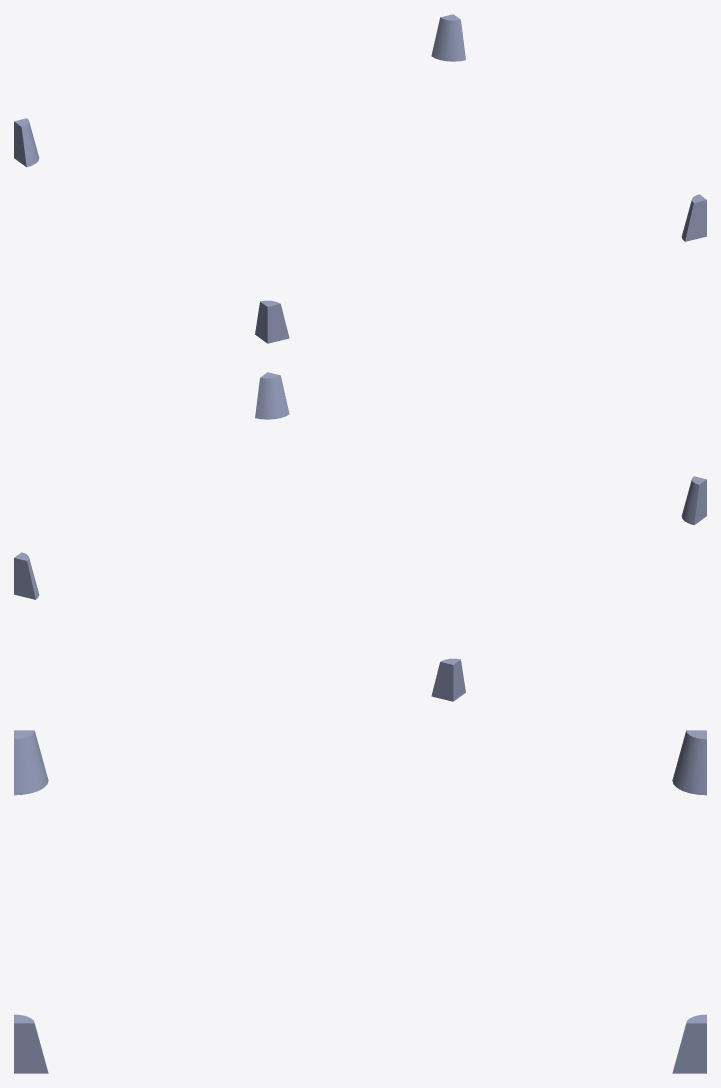
The model's file is road-crossroad-barrier.glb.
The picture shows the model from 3 angles, top to bottom: view 1: azimuth 30°, elevation 25°; view 2: azimuth 150°, elevation 25°; view 3: azimuth 270°, elevation 25°; orthographic projection. The views are drawn at different scales.
Visible parts, largest first — view 1: road-crossroad-barrier; view 2: road-crossroad-barrier; view 3: road-crossroad-barrier.
Part boxes in pixels (left/top/right/bottom): road-crossroad-barrier: left=14, top=14, right=706, bottom=343; road-crossroad-barrier: left=14, top=372, right=706, bottom=701; road-crossroad-barrier: left=14, top=730, right=706, bottom=1073.
Bounding box in the file's own units: 10 × 0.7996 × 10.
1 material, 1 textured.
